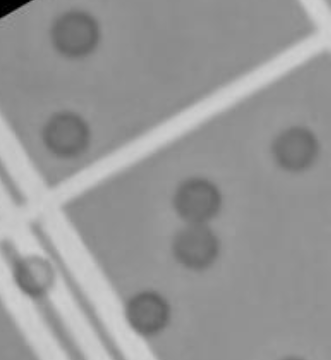cell: (47, 6, 103, 60), (169, 174, 226, 225), (169, 219, 223, 272), (267, 120, 322, 172), (40, 106, 93, 157), (122, 288, 172, 336), (10, 252, 60, 299)
